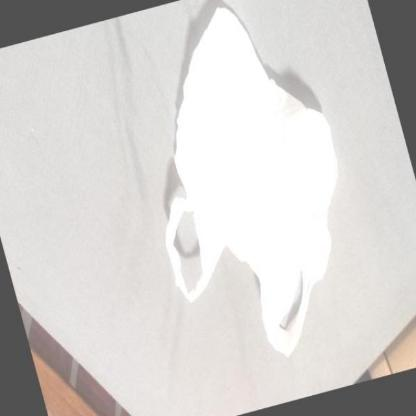Plastic Bag: (160, 4, 342, 362)
